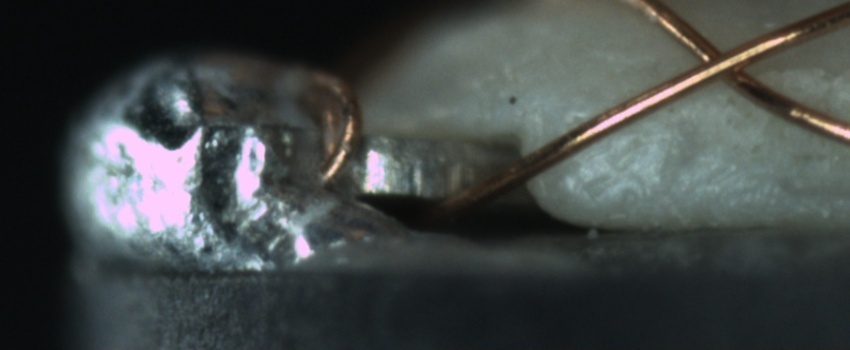CL: (674, 26, 776, 97)
DL: (571, 110, 682, 157)
TE: (290, 68, 366, 189)
